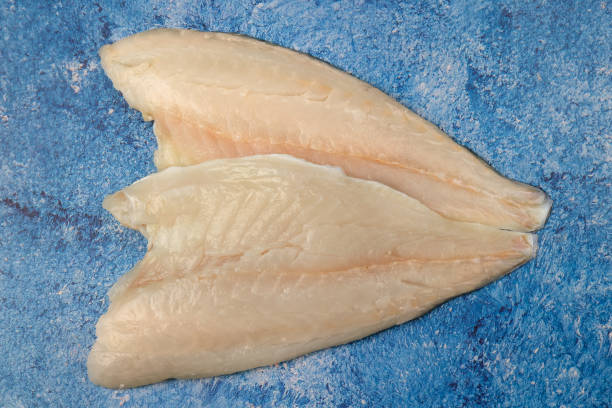bream-fish: (87, 154, 538, 391), (97, 27, 552, 233)
